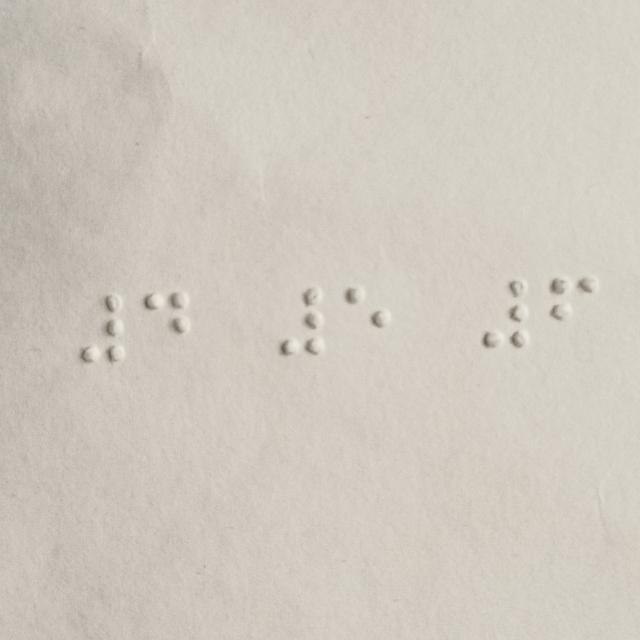4: (142, 289, 194, 361)
5: (343, 285, 395, 357)
6: (548, 276, 600, 348)
number: (76, 292, 128, 364), (276, 288, 328, 360), (479, 279, 531, 351)
